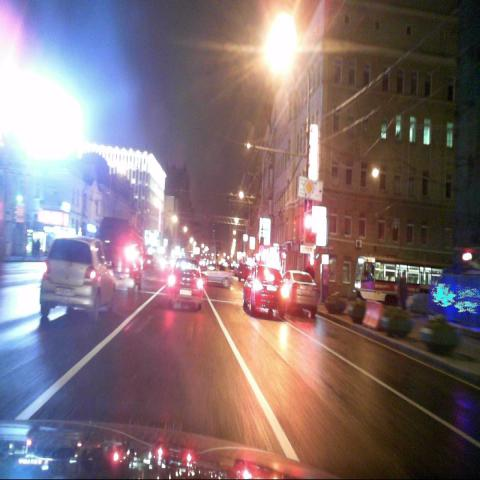2_1: (303, 178, 314, 198)
6_6: (304, 199, 312, 215)
